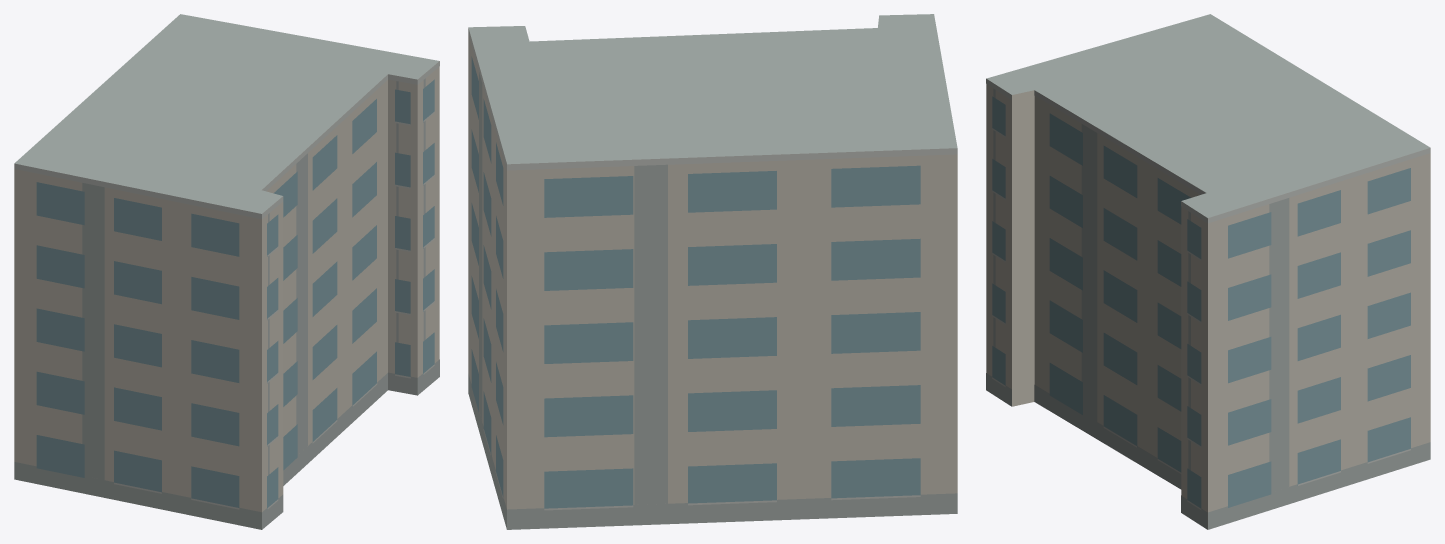
File: survey-upis-32882644.glb
3 views of the same model, side by side, from view 1: azimuth 30°, elevation 25°; view 2: azimuth 150°, elevation 25°; view 3: azimuth 270°, elevation 25° (orthographic). The views are drawn at different scales.
Visible parts, largest first — view 1: survey-upis-32882644.tmp; view 2: survey-upis-32882644.tmp; view 3: survey-upis-32882644.tmp.
Boxes of the visible parts, left/top/right/bottom form: survey-upis-32882644.tmp: left=14, top=14, right=439, bottom=529; survey-upis-32882644.tmp: left=468, top=14, right=957, bottom=529; survey-upis-32882644.tmp: left=986, top=14, right=1430, bottom=529.
Bounding box in the file's own units: 20.1 × 14.3 × 18.49.
